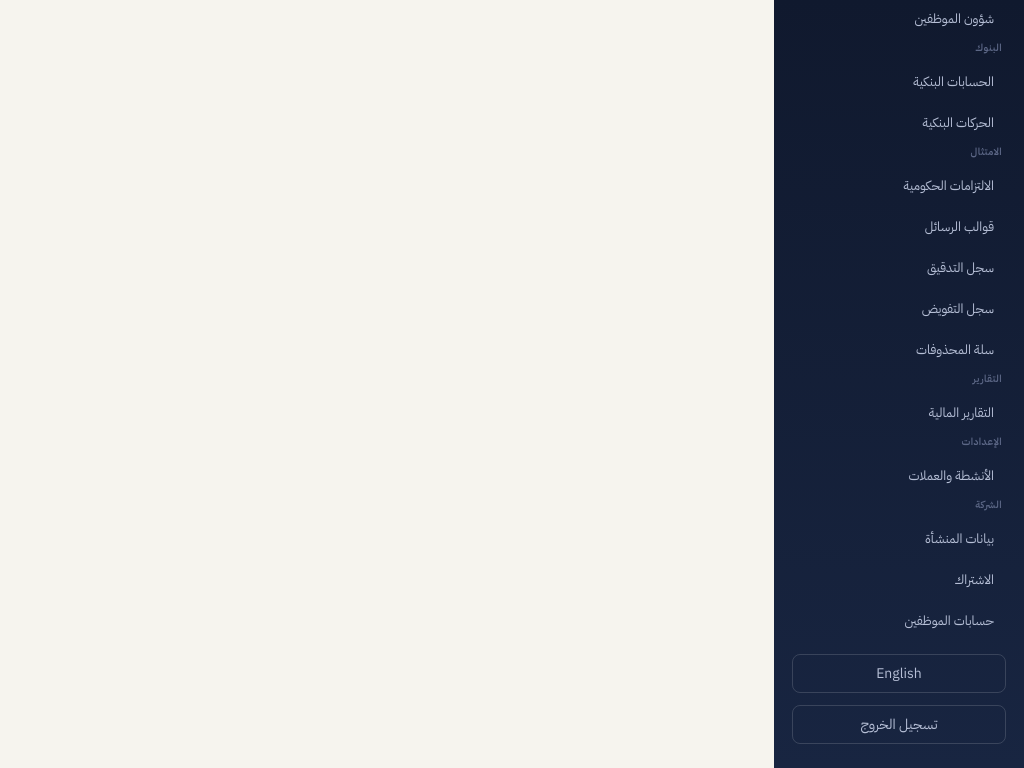
Test: AppShell in both languages › switches to English, left to right, and remembers the choice
This screenshot has width=1024, height=768.
(page scrolled)
Click the button "English" at (899, 674), box top-left (792, 654), bottom-right (1006, 693)
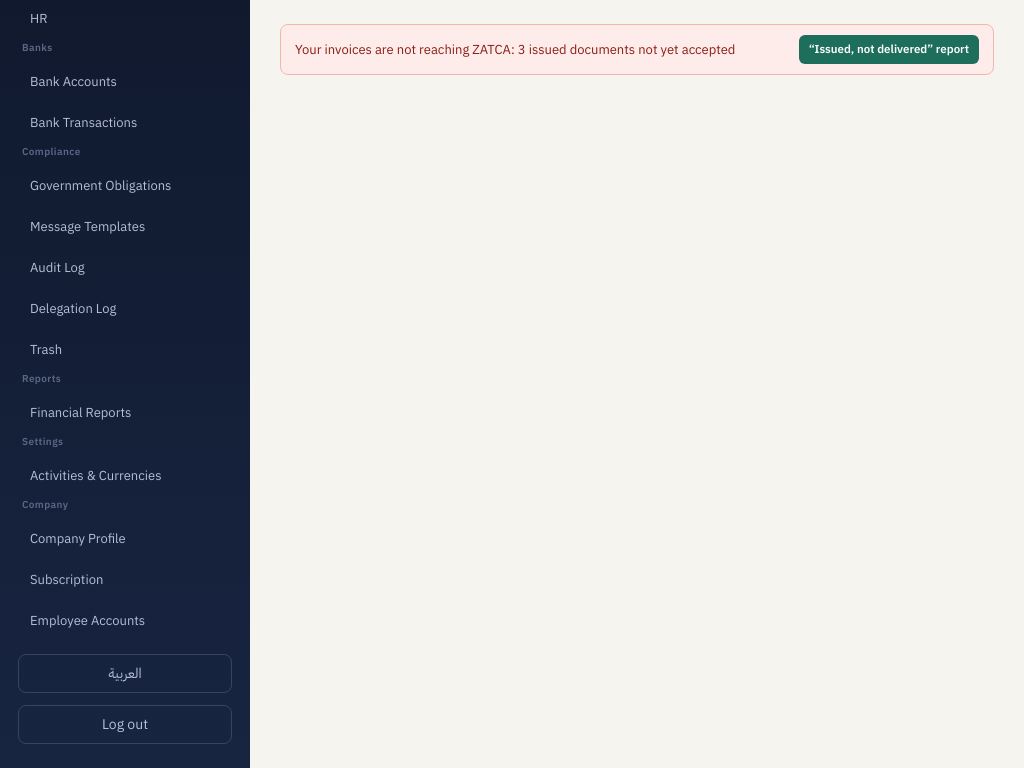
Expected: the text "Your invoices are not reaching ZATCA: 3 issued documents not yet accepted" is shown, top-left (295, 40), bottom-right (735, 59)
Expected: the button "العربية" is shown, top-left (18, 654), bottom-right (232, 693)
